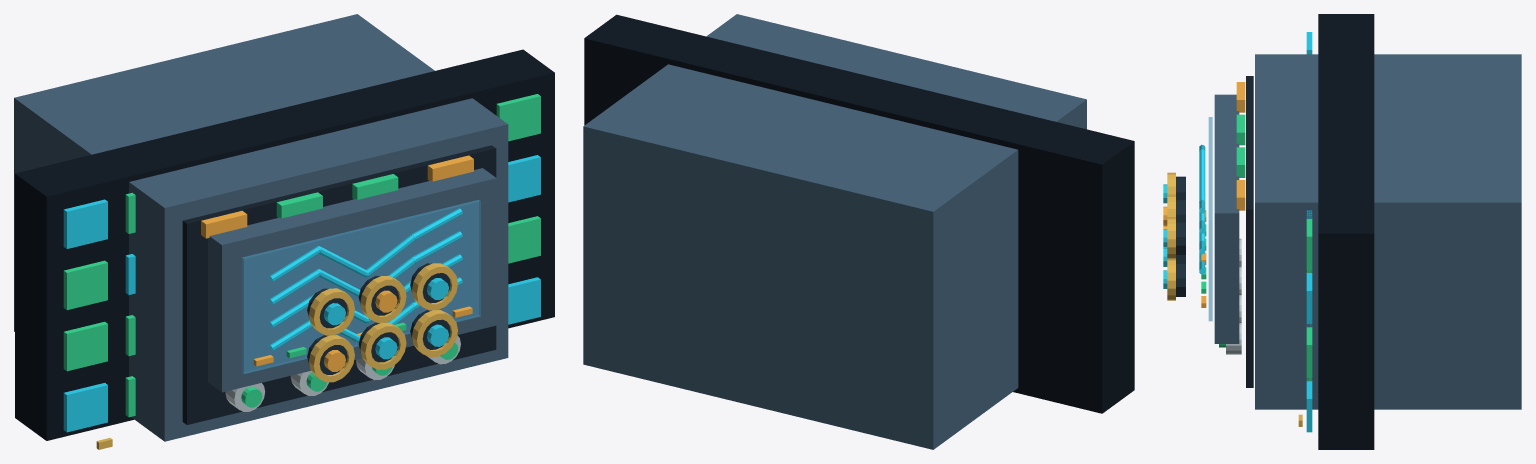
File: 44_L81_PacketSequenceNumberMonitor.fbx
3 views of the same model, side by side, from view 1: azimuth 30°, elevation 25°; view 2: azimuth 150°, elevation 25°; view 3: azimuth 270°, elevation 25° (orthographic). The views are drawn at different scales.
Parts seen in each view (by area): view 1: PacketSequenceNumberMonitor, PacketSequenceNumberMonitor_Part_0051, PacketSequenceNumberMonitor_Part_0076, PacketSequenceNumberMonitor_Part_0052, PacketSequenceNumberMonitor_Part_0068, PacketSequenceNumberMonitor_Part_0060, PacketSequenceNumberMonitor_Part_0083, PacketSequenceNumberMonitor_Part_0067, PacketSequenceNumberMonitor_Part_0059, PacketSequenceNumberMonitor_Part_0075; view 2: PacketSequenceNumberMonitor, PacketSequenceNumberMonitor_Part_0051; view 3: PacketSequenceNumberMonitor, PacketSequenceNumberMonitor_Part_0051, PacketSequenceNumberMonitor_Part_0059.
Part boxes in pixels (x1,y1,x2,y2): PacketSequenceNumberMonitor: (14, 14, 508, 441); PacketSequenceNumberMonitor_Part_0051: (15, 49, 554, 440); PacketSequenceNumberMonitor_Part_0076: (63, 199, 107, 248); PacketSequenceNumberMonitor_Part_0052: (63, 383, 107, 432); PacketSequenceNumberMonitor_Part_0068: (63, 260, 107, 309); PacketSequenceNumberMonitor_Part_0060: (63, 321, 107, 371); PacketSequenceNumberMonitor_Part_0083: (496, 94, 540, 141); PacketSequenceNumberMonitor_Part_0067: (508, 216, 540, 263); PacketSequenceNumberMonitor_Part_0059: (508, 277, 540, 324); PacketSequenceNumberMonitor_Part_0075: (508, 155, 540, 202); PacketSequenceNumberMonitor: (583, 14, 1086, 449); PacketSequenceNumberMonitor_Part_0051: (584, 14, 1134, 413); PacketSequenceNumberMonitor: (1163, 54, 1521, 409); PacketSequenceNumberMonitor_Part_0051: (1318, 14, 1374, 449); PacketSequenceNumberMonitor_Part_0059: (1306, 381, 1312, 432).
Size of the model in its own units: 148 by 71 by 102.
